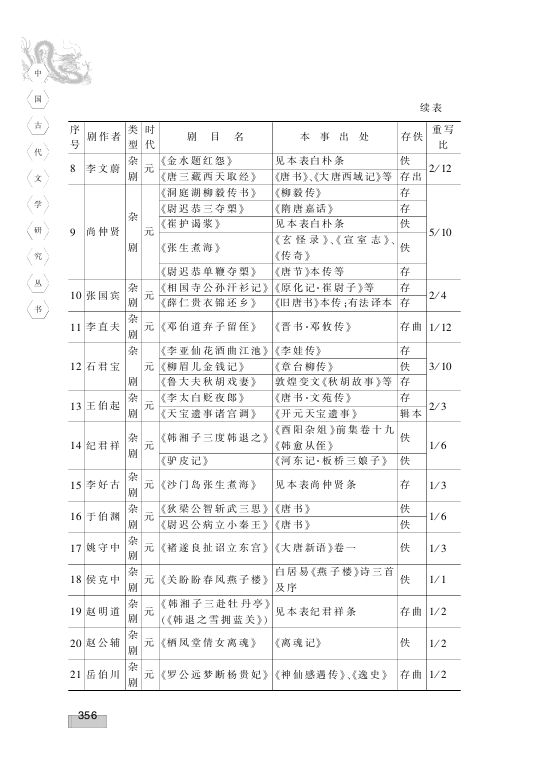table: (68, 121, 460, 691)
